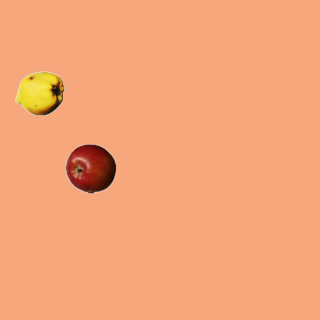Apple Braeburn: (65, 143, 115, 193)
Quince: (14, 68, 64, 118)
